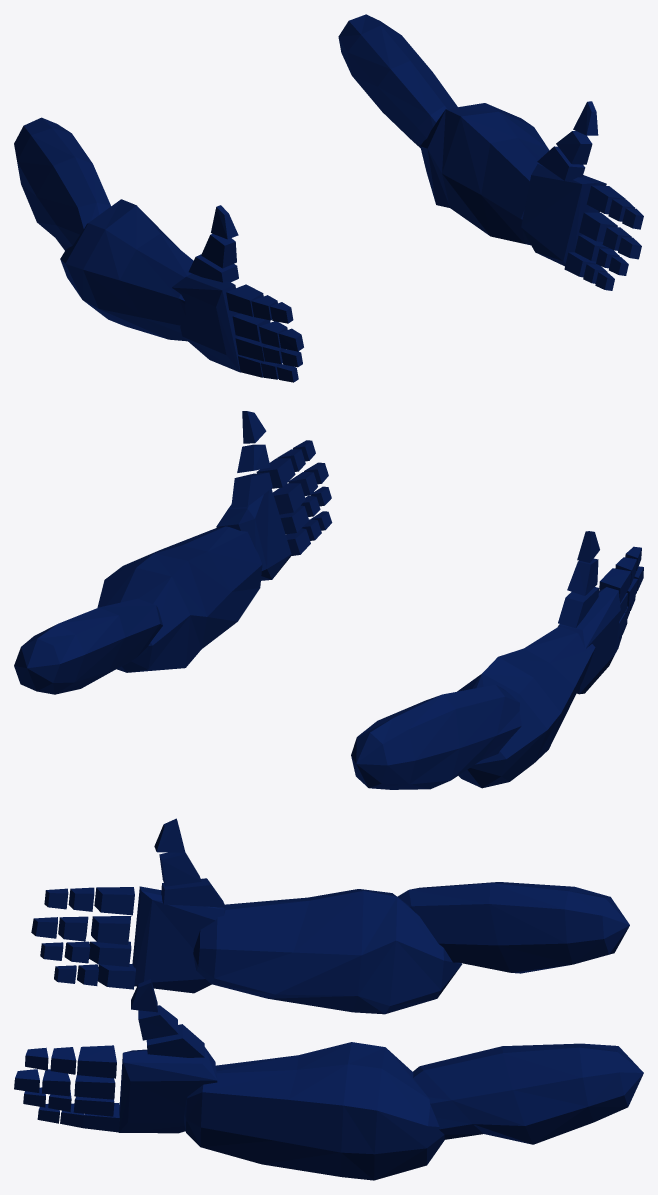
The model's file is robot.obj.
3 views of the same model, one above another, from view 1: azimuth 30°, elevation 25°; view 2: azimuth 150°, elevation 25°; view 3: azimuth 270°, elevation 25° (orthographic). The views are drawn at different scales.
Parts seen in each view (by area): view 1: Mesh_Fing_2c_L1, Mesh_Fing_3b_R1; view 2: Mesh_Fing_2c_L1, Mesh_Fing_3b_R1; view 3: Mesh_Fing_2c_L1, Mesh_Fing_3b_R1.
Boxes of the visible parts, x1,y1,x2,y2 form: Mesh_Fing_2c_L1: [338, 14, 643, 290]; Mesh_Fing_3b_R1: [14, 117, 303, 382]; Mesh_Fing_2c_L1: [14, 411, 332, 694]; Mesh_Fing_3b_R1: [351, 531, 643, 789]; Mesh_Fing_2c_L1: [14, 979, 643, 1180]; Mesh_Fing_3b_R1: [31, 818, 629, 1014].
Bounding box in the file's own units: 0.6845 × 0.2976 × 0.7674.
